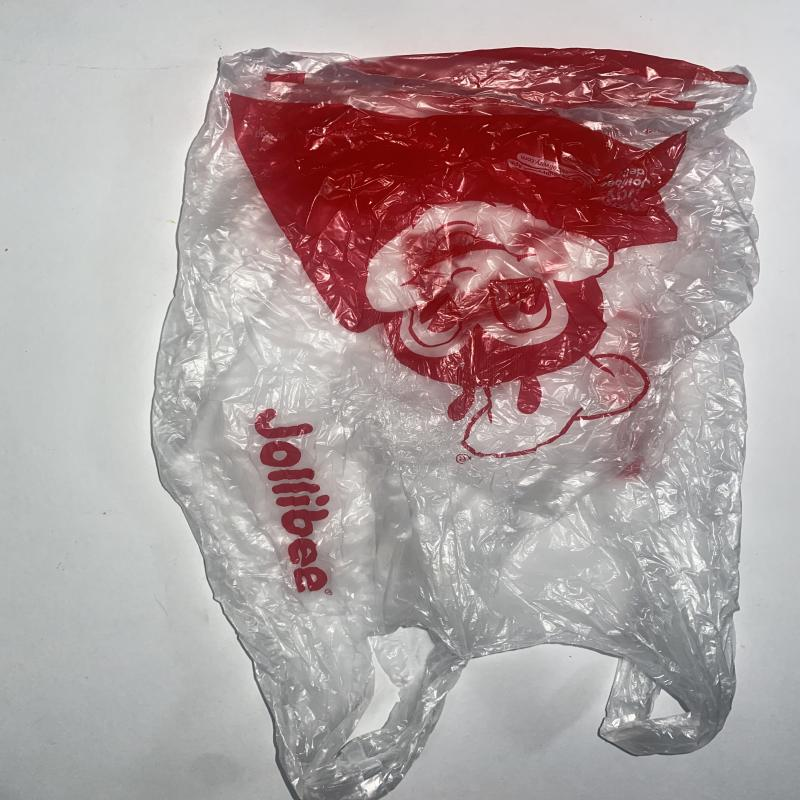plastic bag: (148, 46, 762, 800)
